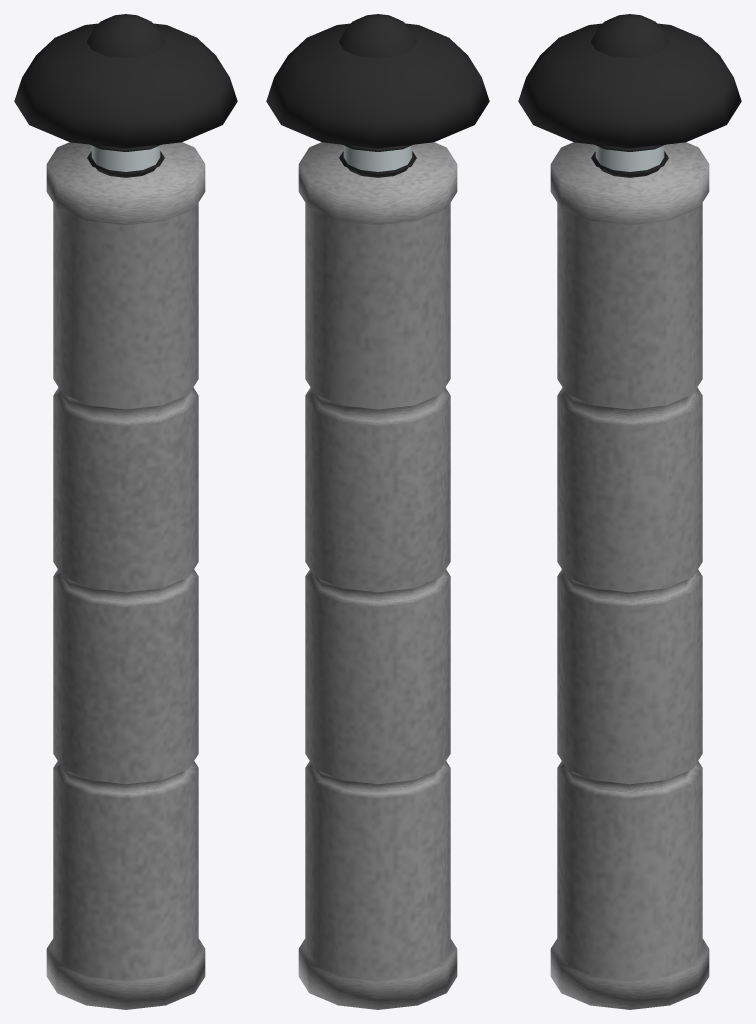
Rendered from T_light.fbx.
3 renders of one model, left to right at view 1: azimuth 30°, elevation 25°; view 2: azimuth 150°, elevation 25°; view 3: azimuth 270°, elevation 25°, orthographic.
Parts seen in each view (by area): view 1: light; view 2: light; view 3: light.
Boxes of the visible parts, left/top/right/bottom form: light: left=14, top=14, right=237, bottom=1009; light: left=266, top=14, right=489, bottom=1009; light: left=518, top=14, right=741, bottom=1009.
Bounding box in the file's own units: 0.5157 × 2.44 × 0.5157.
1 material, 1 textured.
